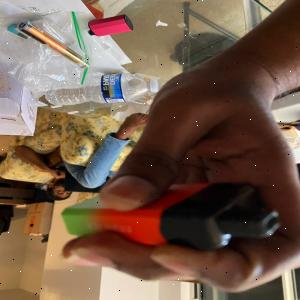Swift-E-Ciggirate: (61, 178, 283, 252)
